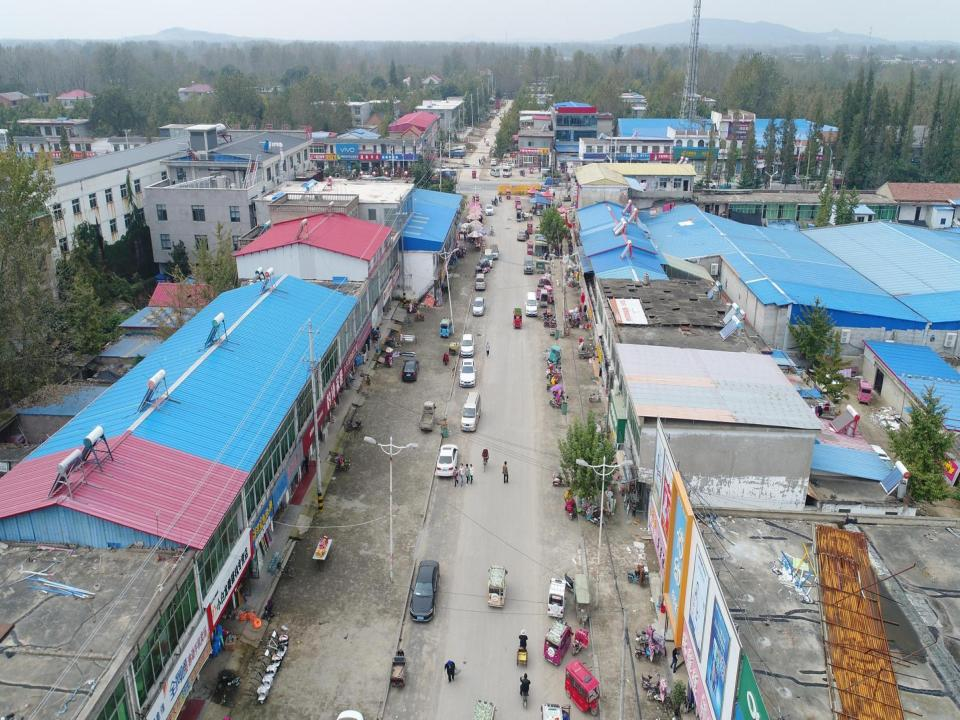bus: (434, 168, 458, 183)
car: (409, 558, 440, 622), (436, 443, 458, 476), (458, 357, 478, 386), (402, 357, 420, 382), (461, 332, 474, 358), (525, 291, 538, 317), (472, 296, 486, 315), (475, 271, 488, 291), (434, 164, 451, 176), (539, 198, 557, 209), (699, 177, 716, 188), (516, 228, 529, 240), (501, 165, 512, 178), (485, 204, 494, 216), (710, 171, 719, 180), (489, 158, 498, 166), (489, 109, 496, 115), (494, 109, 498, 113)
truck: (829, 167, 881, 194), (418, 401, 438, 433), (779, 169, 808, 184), (526, 184, 552, 198), (448, 147, 466, 159)
van: (460, 392, 484, 432), (523, 253, 534, 275), (484, 249, 494, 269), (490, 242, 498, 260), (490, 167, 500, 178), (453, 147, 464, 156), (456, 146, 465, 155), (458, 145, 466, 154)
